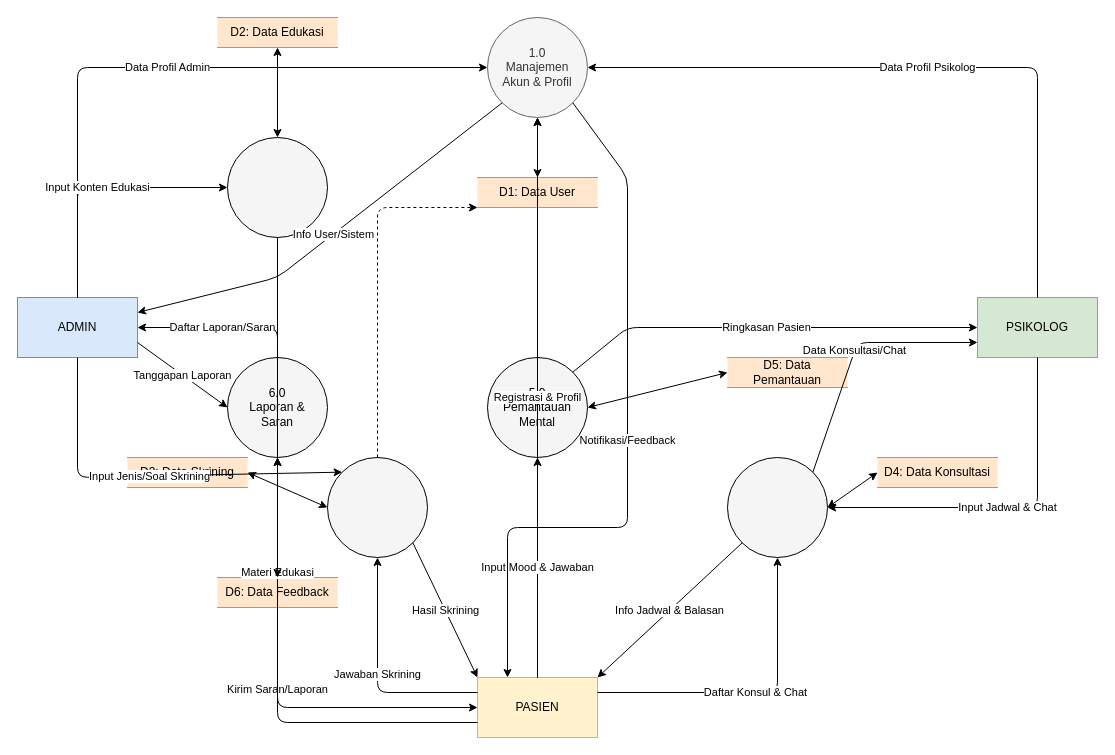
The diagram is 1115 pixels wide and 755 high, and some of its shapes have lost their labels. Each missing label, with the centre of its shape:
"2.0 Manajemen Edukasi" belongs at pixel 277 187.
"3.0 Sistem Skrining" belongs at pixel 377 507.
"4.0 Layanan Konsultasi" belongs at pixel 777 507.
